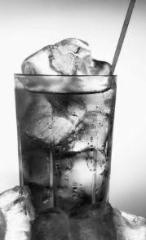glass: (13, 72, 117, 216)
